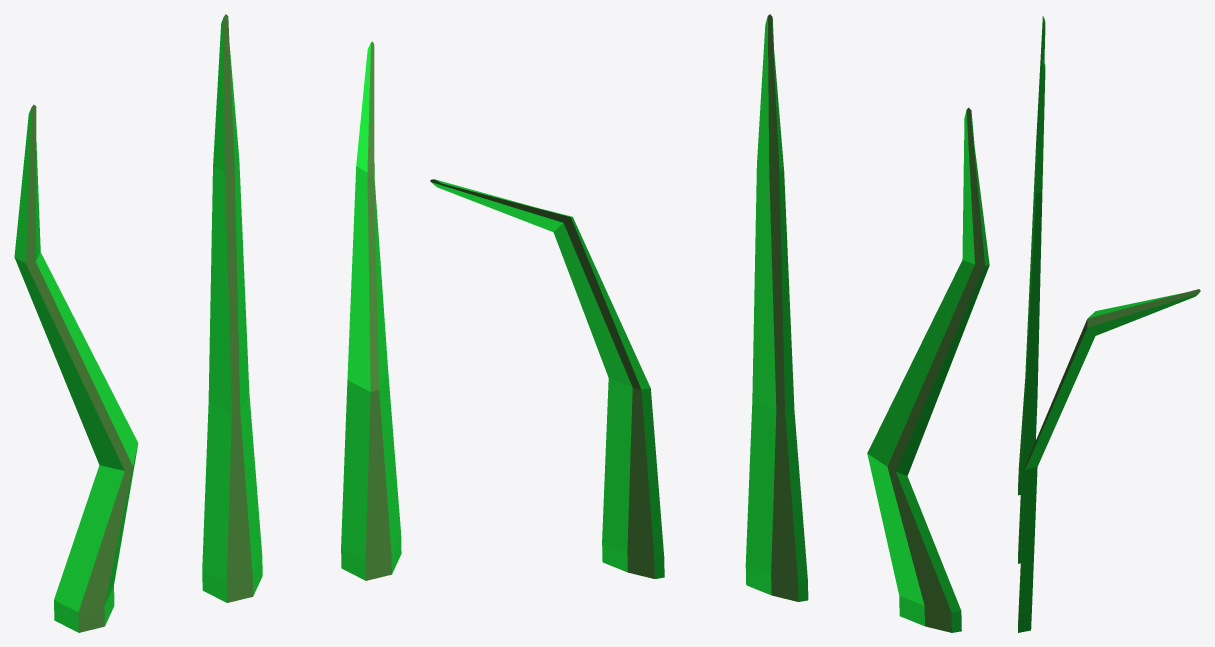
Rendered from basicGrass.fbx.
3 renders of one model, left to right at view 1: azimuth 30°, elevation 25°; view 2: azimuth 150°, elevation 25°; view 3: azimuth 270°, elevation 25°, orthographic. The views are drawn at different scales.
Parts seen in each view (by area): view 1: grass_variant, grass_variant.002, grass_variant.001; view 2: grass_variant, grass_variant.002, grass_variant.001; view 3: grass_variant.001, grass_variant, grass_variant.002.
Part boxes in pixels (x1,y1,x2,y2): grass_variant: (202,14,262,602); grass_variant.002: (14,104,138,632); grass_variant.001: (341,41,401,580); grass_variant: (745,14,808,601); grass_variant.002: (867,107,989,632); grass_variant.001: (430,179,664,578); grass_variant.001: (1018,289,1200,632); grass_variant: (1018,59,1045,563); grass_variant.002: (1018,16,1045,495).
Size of the model in its own units: 3301 by 4116 by 1335.
